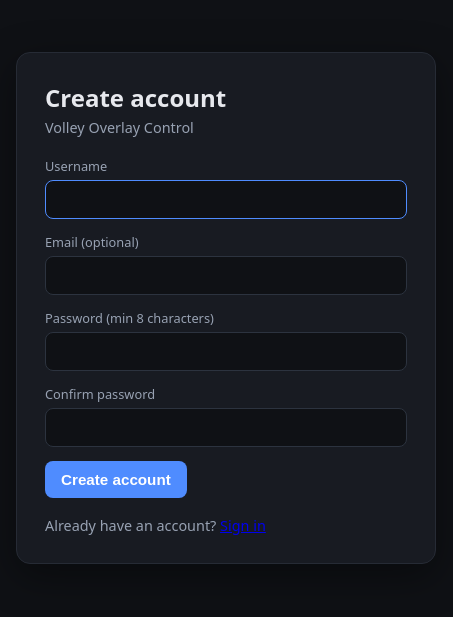
Test case: RegisterPage submit flows › maps a 400 to the username-taken copy
Step 1. Type " bob " into the field labelled "Username" → [226, 200], box x1=45 y1=180 x2=407 y2=219
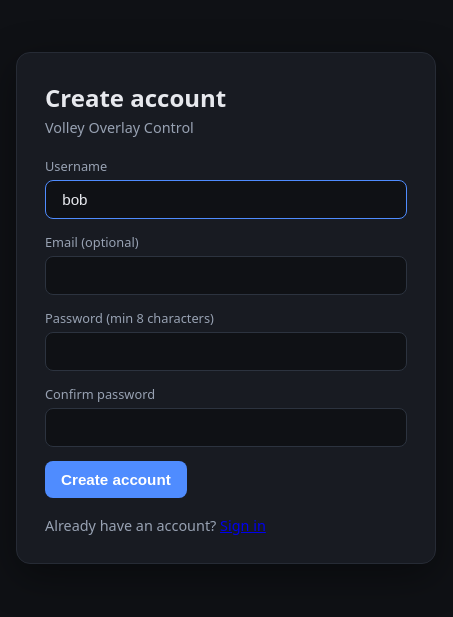
Step 2. Type " bob@example.com " into the field labelled "Email (optional)" → [226, 276], box x1=45 y1=256 x2=407 y2=295
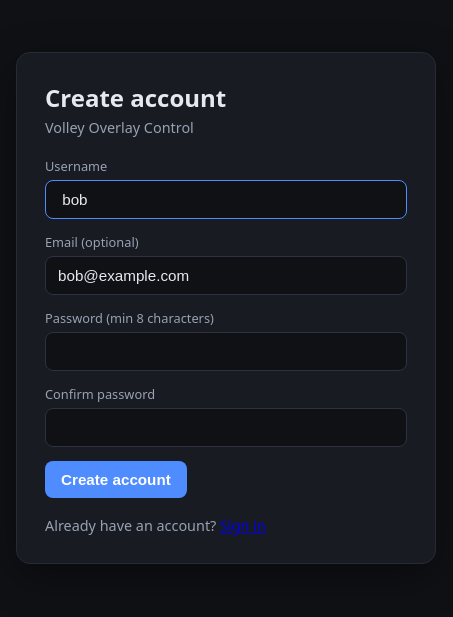
Step 3. Type "secret123" into the password field labelled "Password (min 8 characters)" → [226, 352], box x1=45 y1=332 x2=407 y2=371
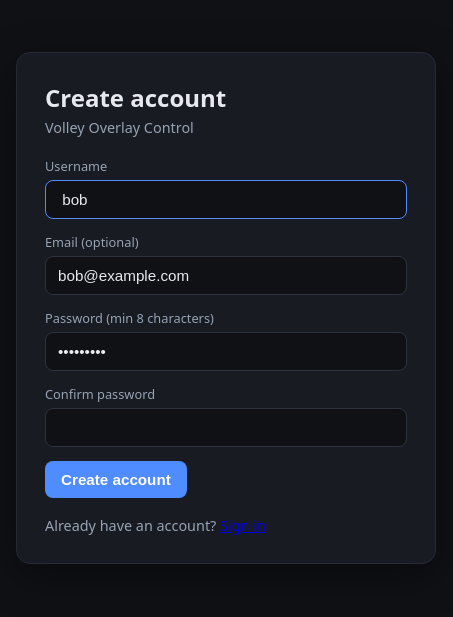
Step 4. Type "secret123" into the password field labelled "Confirm password" → [226, 428], box x1=45 y1=408 x2=407 y2=447
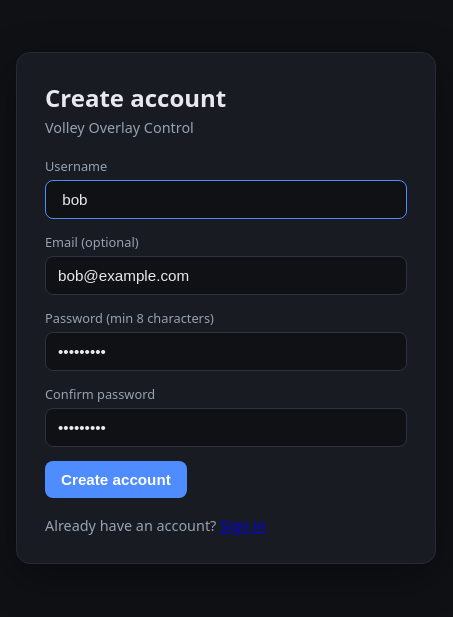
Step 5. Click the button "Create account" → [116, 480], box x1=45 y1=461 x2=187 y2=498
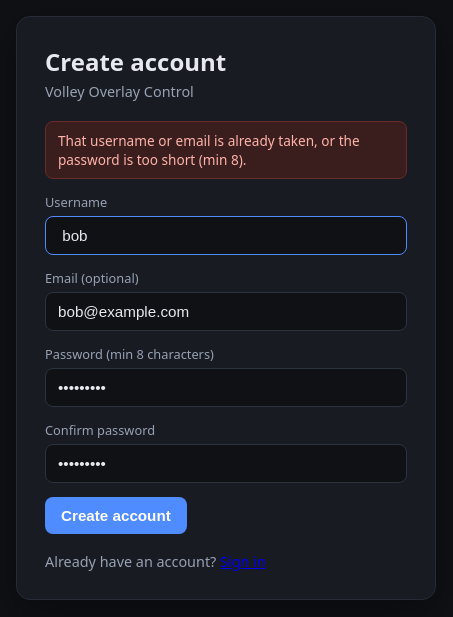
Expected: the text "already taken" is shown, x1=58 y1=131 x2=360 y2=169
